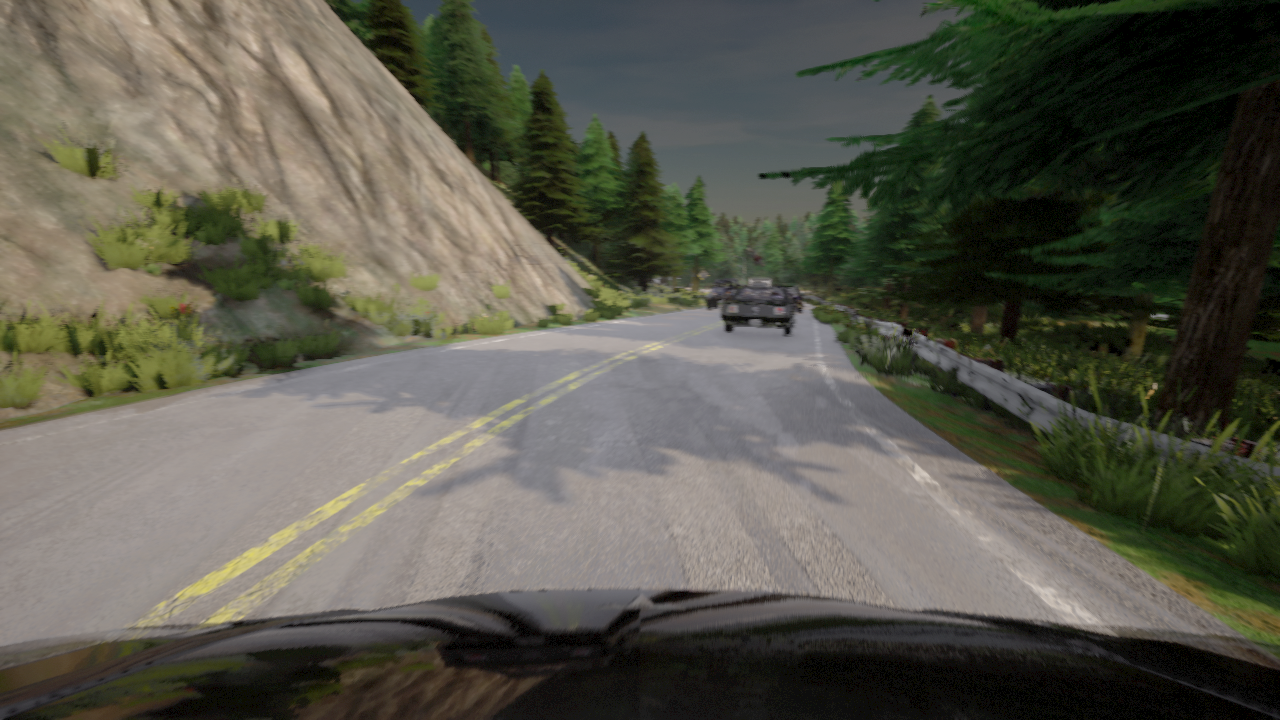cyclist: (0, 588, 1279, 719), (721, 287, 796, 334), (706, 278, 738, 308), (776, 284, 803, 311), (746, 279, 769, 286), (746, 246, 752, 253)
